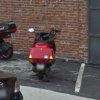Motorcycle: (22, 23, 71, 85)
